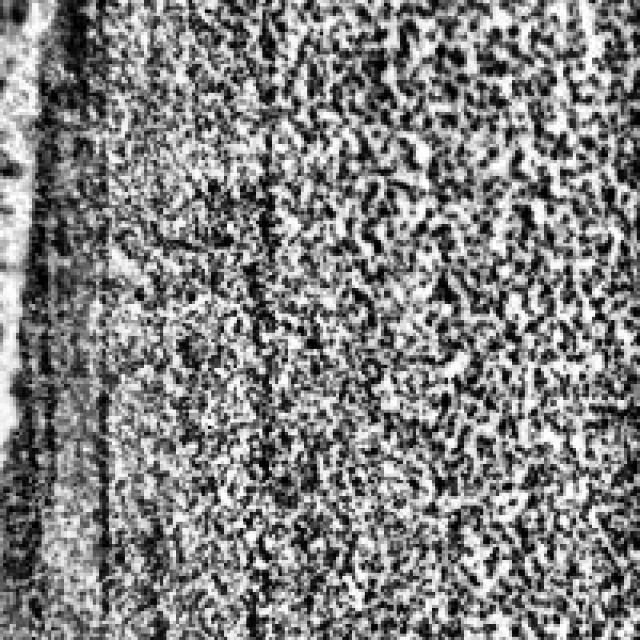Rolled_in_Scale: (26, 0, 634, 634)
